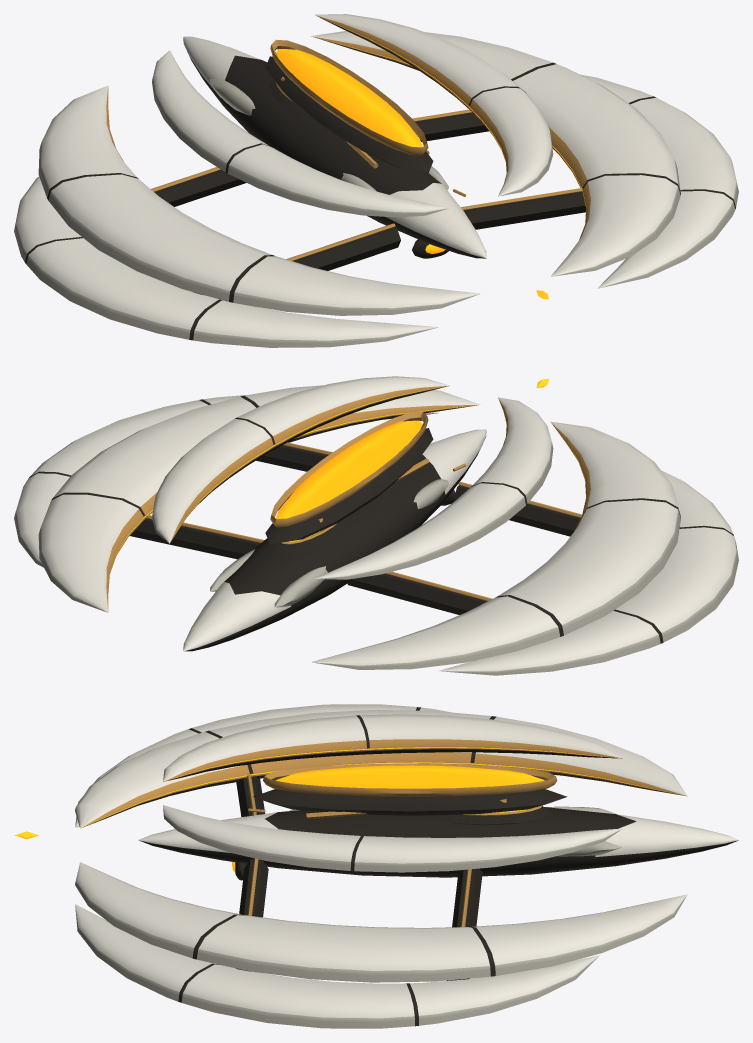
File: 06_titan.glb
3 views of the same model, one above another, from view 1: azimuth 30°, elevation 25°; view 2: azimuth 150°, elevation 25°; view 3: azimuth 270°, elevation 25° (orthographic).
Visible parts, largest first — view 1: Hull; view 2: Hull, energy_1; view 3: Hull, energy_1.
Part boxes in pixels (<box>): Hull: <box>14,14,738,347</box>; Hull: <box>14,376,738,675</box>; energy_1: <box>273,516,349,549</box>; Hull: <box>75,704,738,1028</box>; energy_1: <box>431,805,545,821</box>.
Bounding box in the file's own units: 30.08 × 4.94 × 29.41.
